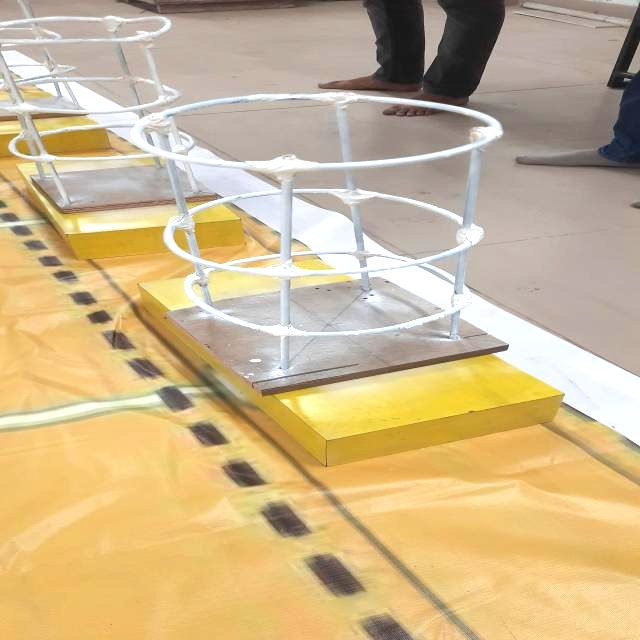silo: (148, 89, 516, 369), (0, 15, 226, 211)
